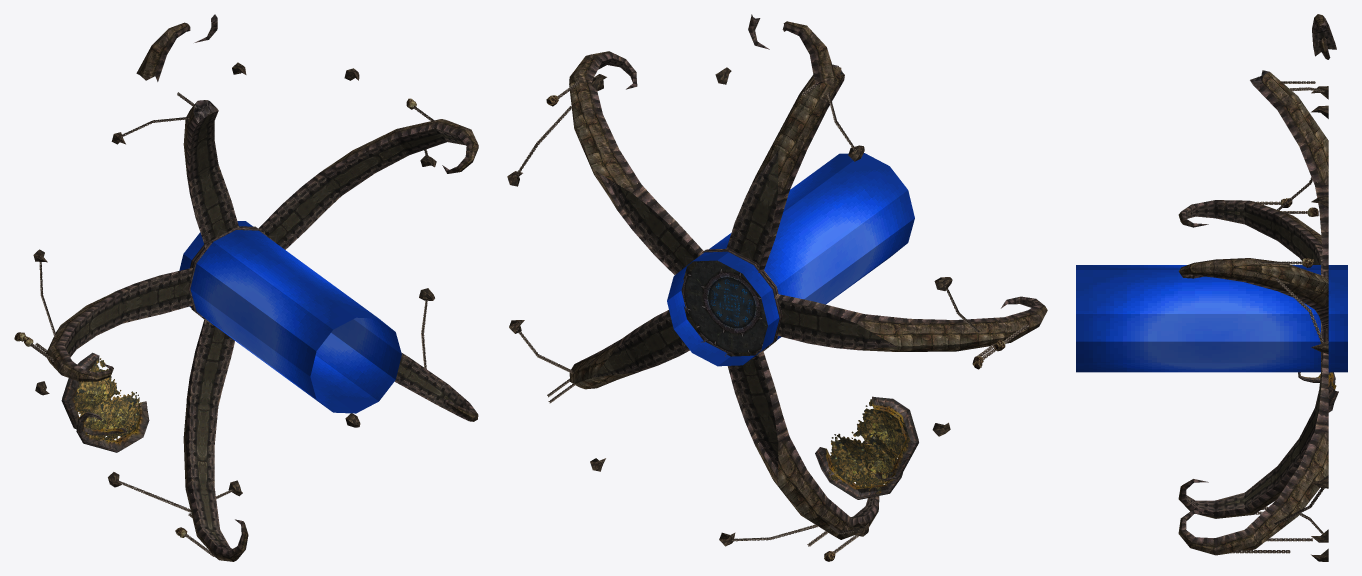
Rendered from yatelandisi_fuben_223_boss_03.obj.
3 views of the same model, side by side, from view 1: azimuth 30°, elevation 25°; view 2: azimuth 150°, elevation 25°; view 3: azimuth 270°, elevation 25° (orthographic). The views are drawn at different scales.
Parts seen in each view (by area): view 1: yatelandisi_fuben_223_boss_03, Cylinder01; view 2: yatelandisi_fuben_223_boss_03, Cylinder01; view 3: Cylinder01, yatelandisi_fuben_223_boss_03.
Part boxes in pixels (x1,y1,x2,y2): yatelandisi_fuben_223_boss_03: (14, 14, 478, 561); Cylinder01: (179, 221, 401, 413); yatelandisi_fuben_223_boss_03: (507, 14, 1047, 561); Cylinder01: (667, 153, 914, 366); Cylinder01: (1076, 265, 1347, 372); yatelandisi_fuben_223_boss_03: (1178, 14, 1338, 561).
Bounding box in the file's own units: 529 × 586 × 285.
5 materials, 5 textured.
